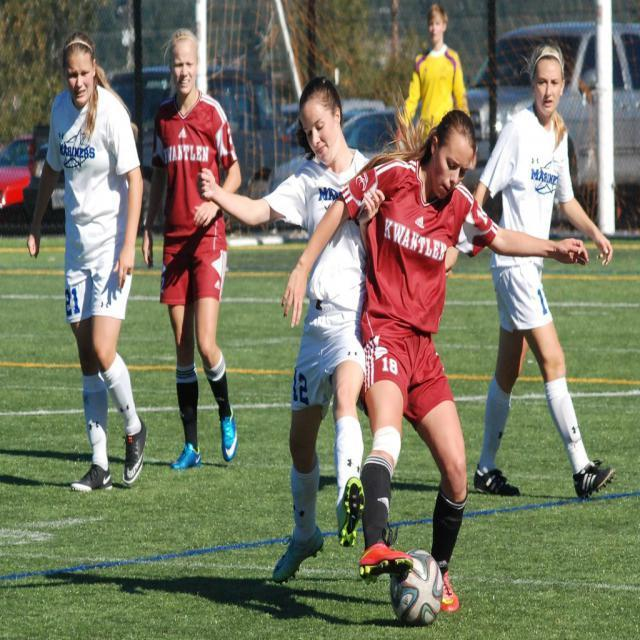football: (383, 545, 457, 632)
